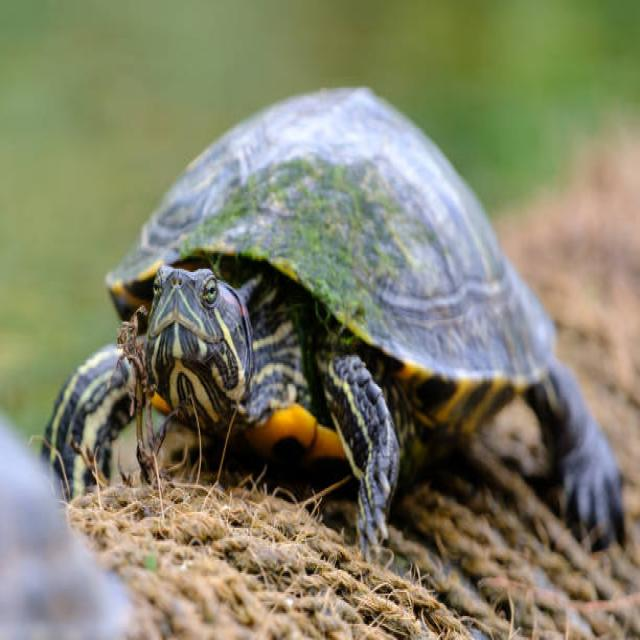terrapin: (47, 72, 640, 549), (104, 58, 596, 406), (123, 250, 273, 442), (307, 346, 413, 580), (32, 337, 145, 502)
